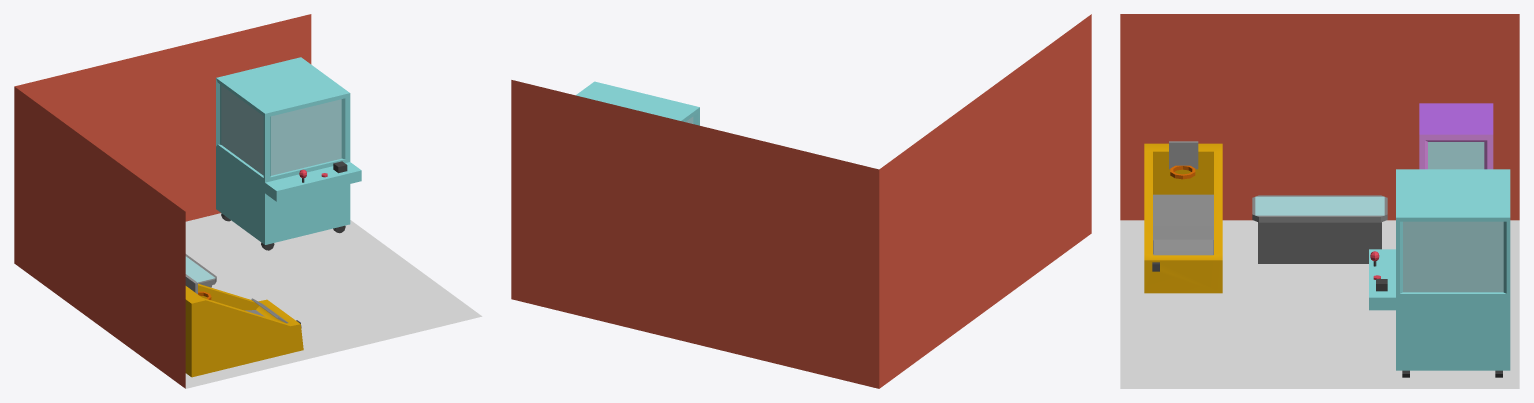
File: Arcade.fbx
3 views of the same model, side by side, from view 1: azimuth 30°, elevation 25°; view 2: azimuth 150°, elevation 25°; view 3: azimuth 270°, elevation 25° (orthographic). The views are drawn at different scales.
Parts seen in each view (by area): view 1: Background, ClawMachine, Basketball, Table; view 2: Background, ClawMachine; view 3: Background, ClawMachine, Basketball, Table, ArcadeGame.
Part boxes in pixels (box(x1,y1,x2,y2)): Background: box(14, 14, 482, 388); ClawMachine: box(216, 57, 361, 250); Basketball: box(185, 274, 303, 377); Table: box(185, 254, 216, 287); Background: box(511, 14, 1091, 388); ClawMachine: box(576, 81, 699, 125); Background: box(1120, 14, 1519, 388); ClawMachine: box(1369, 169, 1510, 377); Basketball: box(1144, 141, 1222, 293); Table: box(1252, 195, 1387, 263); ArcadeGame: box(1419, 103, 1493, 169).
Bounding box in the file's own units: 21.05 × 12.09 × 21.05.
